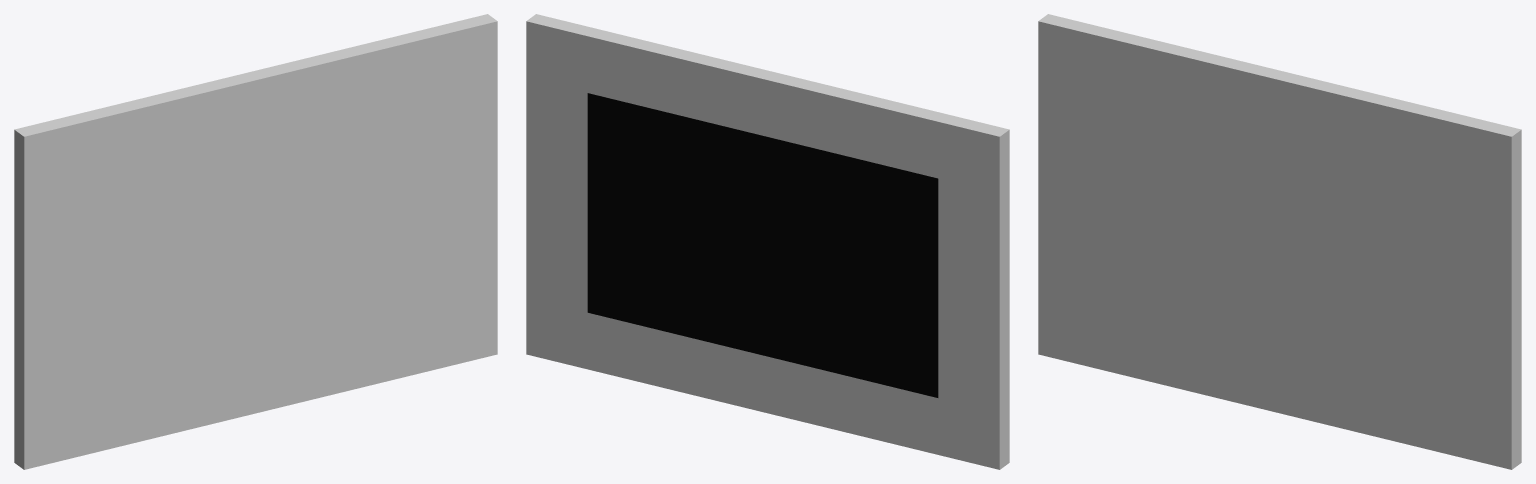
The model's file is Cuadro pequeño 3.fbx.
The picture shows the model from 3 angles, left to right: view 1: azimuth 30°, elevation 25°; view 2: azimuth 150°, elevation 25°; view 3: azimuth 330°, elevation 25°; orthographic projection.
Parts seen in each view (by area): view 1: SM_picture_frame_landscape_g;ass.004, SM_picture_frame_landscape.004; view 2: SM_picture_frame_landscape.004, SM_picture_frame_landscape.017; view 3: SM_picture_frame_landscape_g;ass.004, SM_picture_frame_landscape.004.
Part boxes in pixels (left/top/right/bottom): SM_picture_frame_landscape_g;ass.004: left=42, top=45, right=479, bottom=446; SM_picture_frame_landscape.004: left=14, top=14, right=497, bottom=469; SM_picture_frame_landscape.004: left=526, top=14, right=1009, bottom=469; SM_picture_frame_landscape.017: left=587, top=93, right=938, bottom=397; SM_picture_frame_landscape_g;ass.004: left=1056, top=45, right=1493, bottom=446; SM_picture_frame_landscape.004: left=1038, top=14, right=1521, bottom=469.
Size of the model in its own units: 88.33 by 59.38 by 3.21.
